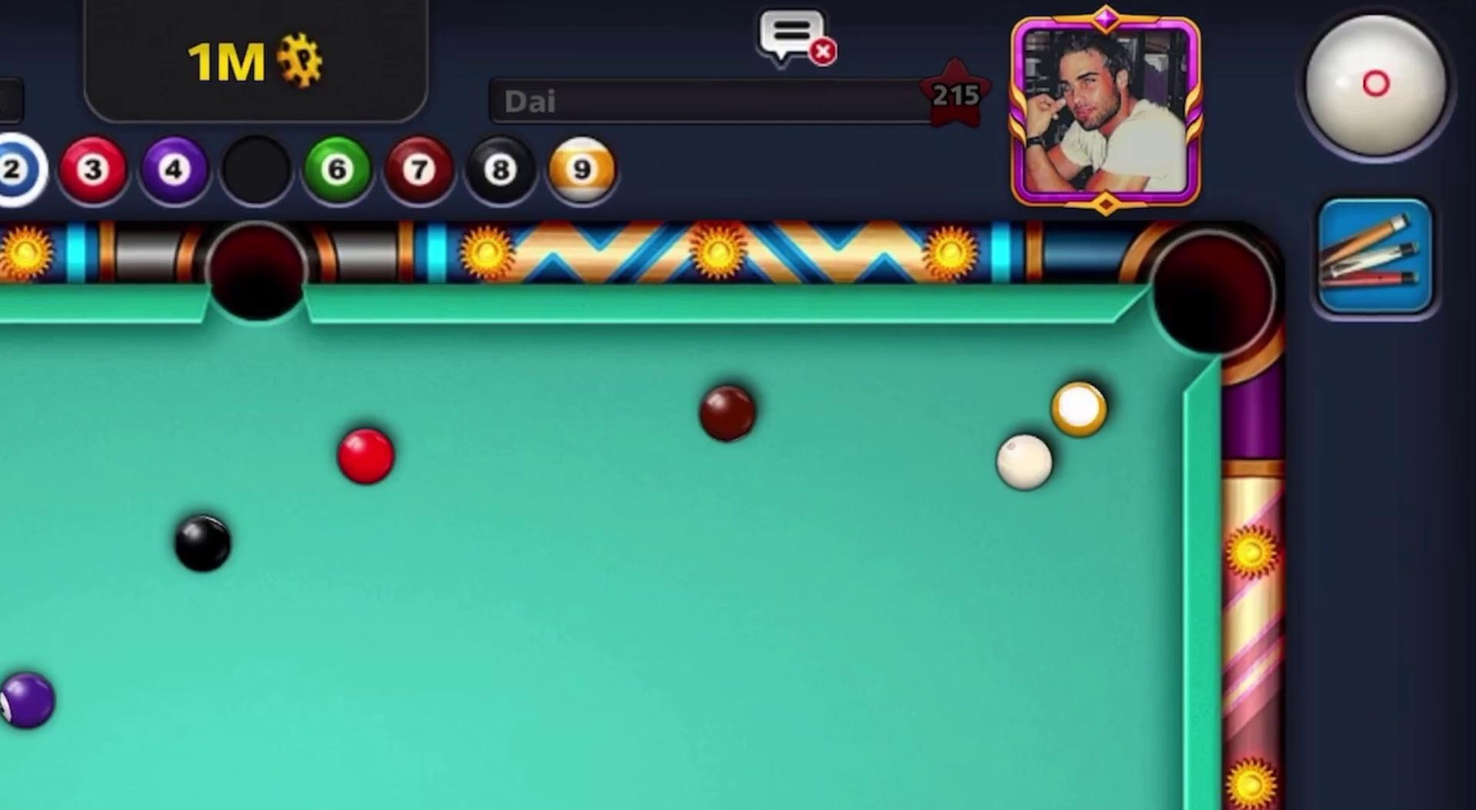Ball: (162, 504, 243, 579), (0, 662, 65, 743), (329, 420, 400, 494), (691, 379, 767, 448), (1047, 376, 1114, 444)
Hole: (1119, 214, 1288, 395), (191, 207, 323, 341)
Play_Area: (1, 321, 1173, 807)
Spin: (1273, 1, 1468, 186)
White: (991, 428, 1064, 496)
